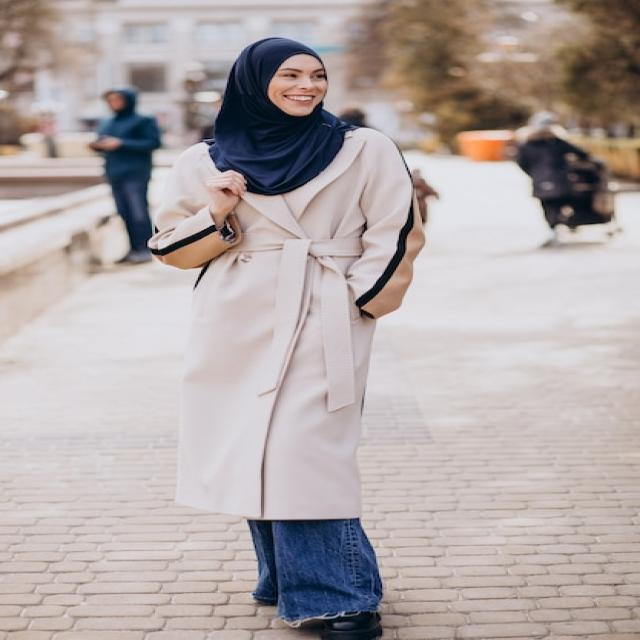Person: (151, 38, 428, 640), (88, 86, 161, 264)
